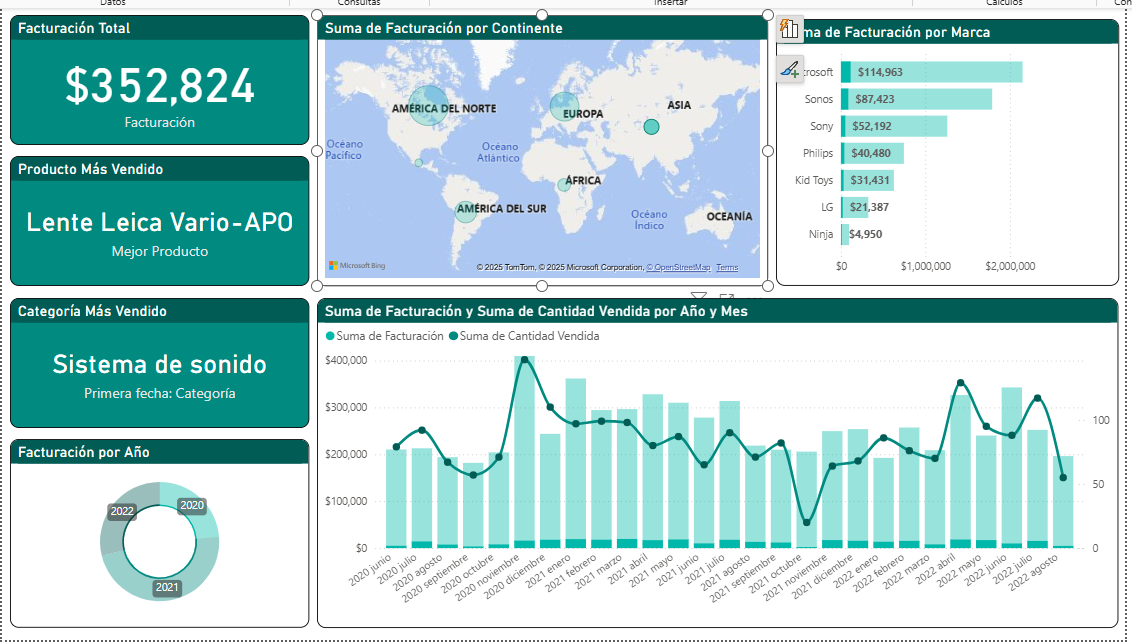

The page's visual inventory and layout, read from the dashboard file:
{"tool":"powerbi","page":{"name":"Página 1","canvas":[1280,720],"ordinal":0},"visuals":[{"type":"card","title":"Facturación Total","fields":{"Values":["Sum(Ventas Tech.Facturación)"]},"box":[8.8,7.5,341.2,147.5],"z":0},{"type":"card","title":"Categoría Más Vendido","fields":{"Values":["Min(Ventas Tech.Categoría)"]},"box":[8.8,330,341.2,147.5],"z":1000},{"type":"map","fields":{"Category":["Ventas Tech.Continente"],"Size":["Sum(Ventas Tech.Facturación)"]},"box":[358.8,7.5,513.8,308.8],"z":2000},{"type":"lineStackedColumnComboChart","fields":{"Category":["Ventas Tech.Fecha De Venta.Variación.Jerarquía de fechas.Año","Ventas Tech.Fecha De Venta.Variación.Jerarquía de fechas.Mes"],"Y":["Sum(Ventas Tech.Facturación)"],"Y2":["Sum(Ventas Tech.Cantidad Vendida)"]},"box":[358.8,330,912.5,376.2],"z":3000},{"type":"clusteredBarChart","fields":{"Category":["Ventas Tech.Marca"],"Y":["Sum(Ventas Tech.Facturación)"]},"box":[881.2,12.5,391.2,303.8],"z":4000},{"type":"card","title":"Producto Más Vendido","fields":{"Values":["Min(Ventas Tech.Producto)"]},"box":[8.8,168.8,341.2,147.5],"z":5000},{"type":"donutChart","title":"Facturación por Año","fields":{"Y":["Sum(Ventas Tech.Facturación)"],"Category":["Ventas Tech.Fecha De Venta.Variación.Jerarquía de fechas.Año"]},"box":[8.8,491.2,341.2,215],"z":6000}]}

Visuals, with their boxes on the page's 1280x720 design canvas (x1, y1, x2, y2). These are canvas units, not pixel positions in the 1132x642 screenshot, which may show the page scaled, cropped or inside an application window:
"Facturación Total" card: box(9, 8, 350, 155)
"Categoría Más Vendido" card: box(9, 330, 350, 478)
map - Ventas Tech.Continente x Sum(Ventas Tech.Facturación): box(359, 8, 873, 316)
lineStackedColumnComboChart - Ventas Tech.Fecha De Venta.Variación.Jerarquía de fechas.Año x Ventas Tech.Fecha De Venta.Variación.Jerarquía de fechas.Mes: box(359, 330, 1271, 706)
clusteredBarChart - Ventas Tech.Marca x Sum(Ventas Tech.Facturación): box(881, 12, 1272, 316)
"Producto Más Vendido" card: box(9, 169, 350, 316)
"Facturación por Año" donutChart: box(9, 491, 350, 706)
